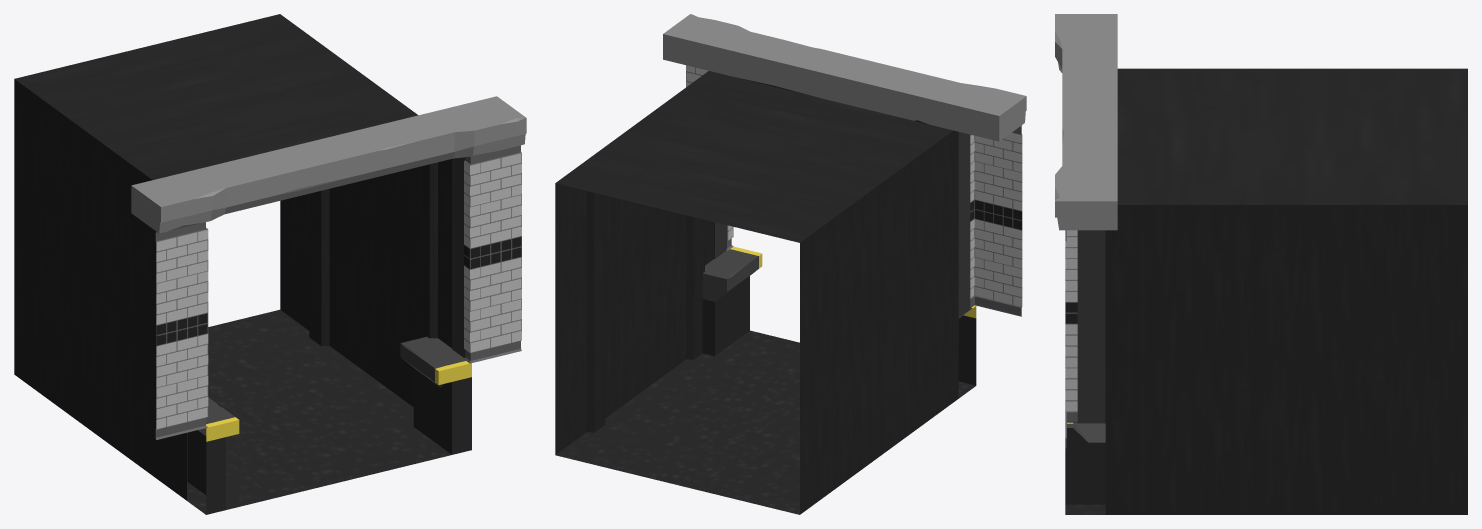
Rendered from SW_ENV_RailTunnel_Entrance.fbx.
The picture shows the model from 3 angles, left to right: view 1: azimuth 30°, elevation 25°; view 2: azimuth 150°, elevation 25°; view 3: azimuth 270°, elevation 25°; orthographic projection. The views are drawn at different scales.
Visible parts, largest first — view 1: SW_ENV_RailTunnel_Entrance; view 2: SW_ENV_RailTunnel_Entrance; view 3: SW_ENV_RailTunnel_Entrance.
Part boxes in pixels (left/top/right/bottom): SW_ENV_RailTunnel_Entrance: left=14, top=14, right=526, bottom=514; SW_ENV_RailTunnel_Entrance: left=555, top=14, right=1026, bottom=514; SW_ENV_RailTunnel_Entrance: left=1055, top=14, right=1467, bottom=514.
Size of the model in its own units: 550 by 465 by 513.
